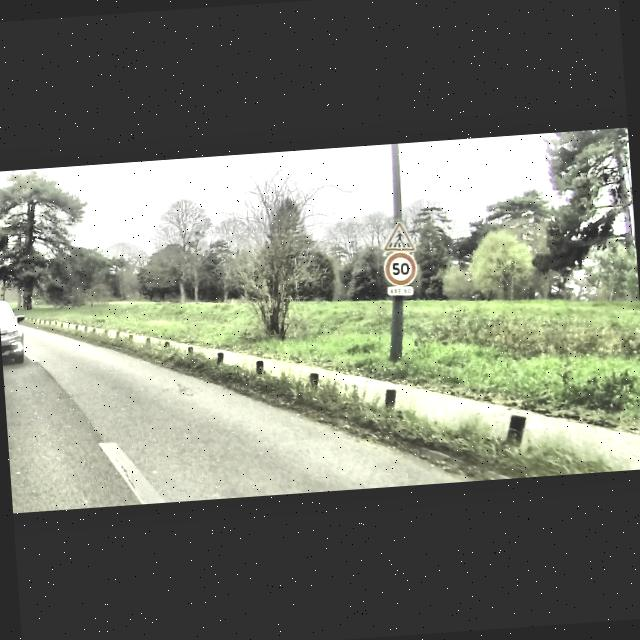speed_50: (380, 250, 420, 290)
